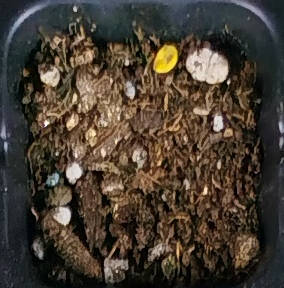chilli seed: (150, 43, 179, 74)
